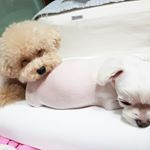puppy: (1, 17, 68, 106), (93, 45, 150, 130)
